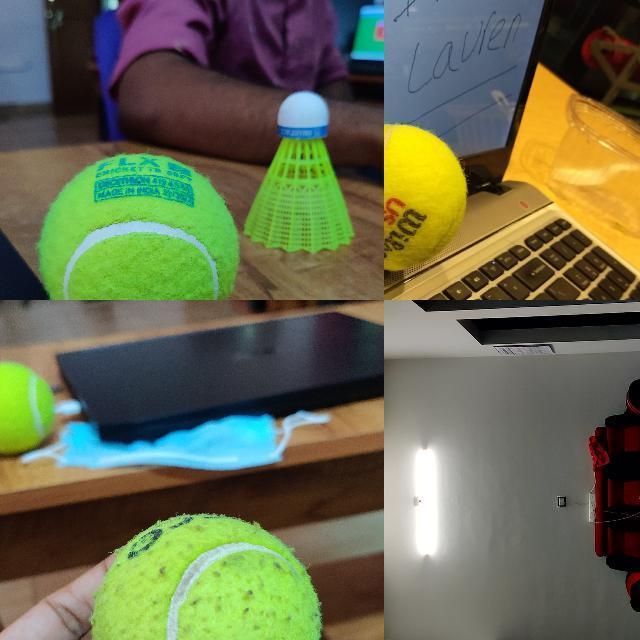tennis-ball: (90, 512, 322, 639), (40, 154, 239, 299), (384, 122, 468, 272), (0, 362, 54, 453)
